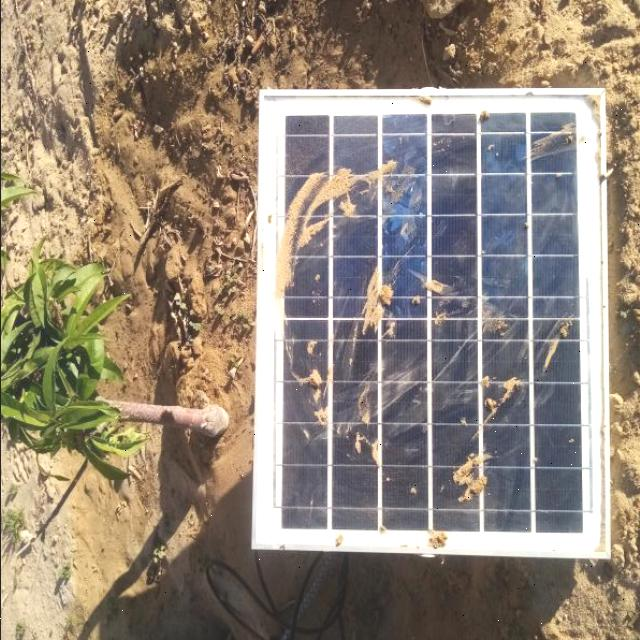Anomaly Solar Panel: (266, 104, 589, 545)
Surface Contaminant: (265, 137, 579, 511), (512, 116, 574, 174)
